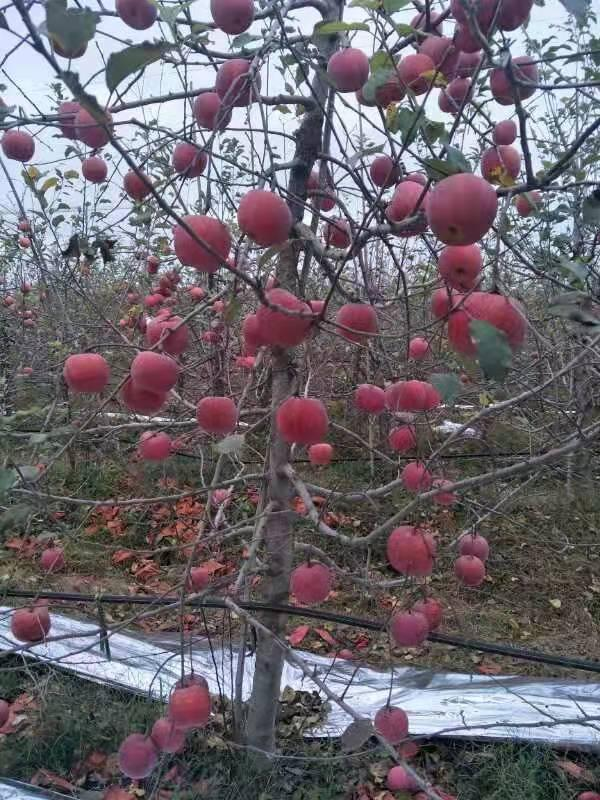apple: (257, 284, 317, 348), (172, 211, 228, 271)
